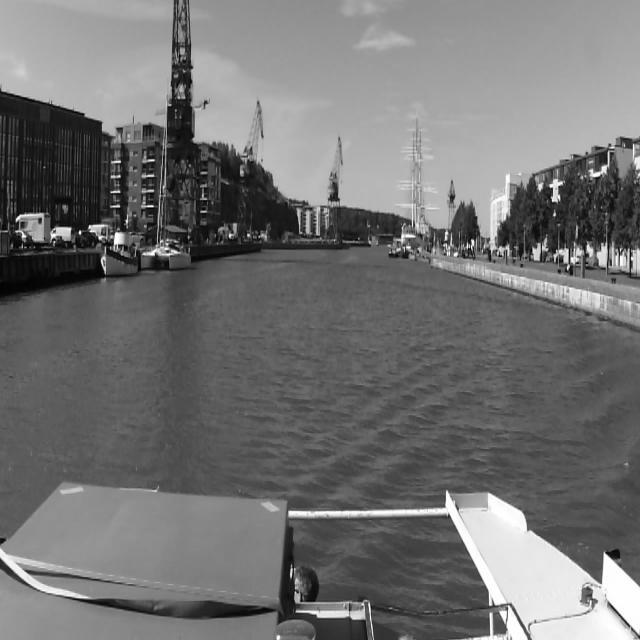ship: (145, 94, 193, 268), (392, 109, 440, 257), (101, 232, 143, 278), (394, 245, 406, 259)
